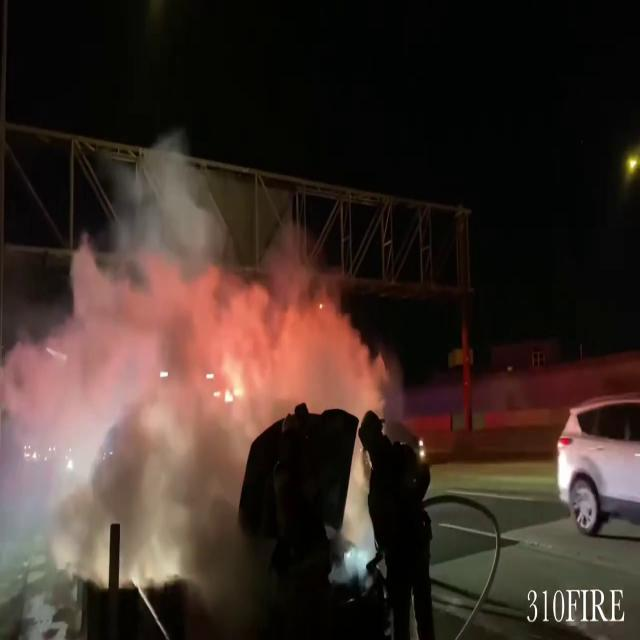Smoke: (1, 132, 382, 612)
